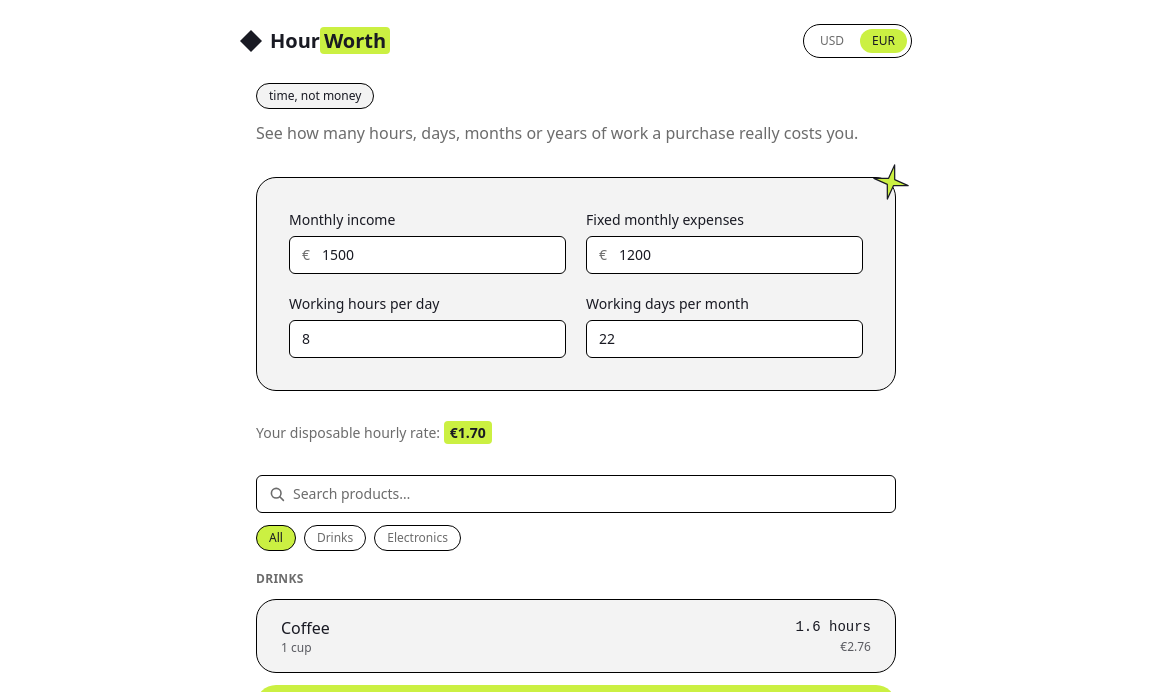
Test: App › shows an empty-state message when no product matches the filters
Expected: the text "Coffee" is shown, [281, 616, 330, 640]
Type "nonexistent-product" into the search field with placeholder "Search products…" at (588, 494), box [293, 484, 883, 504]
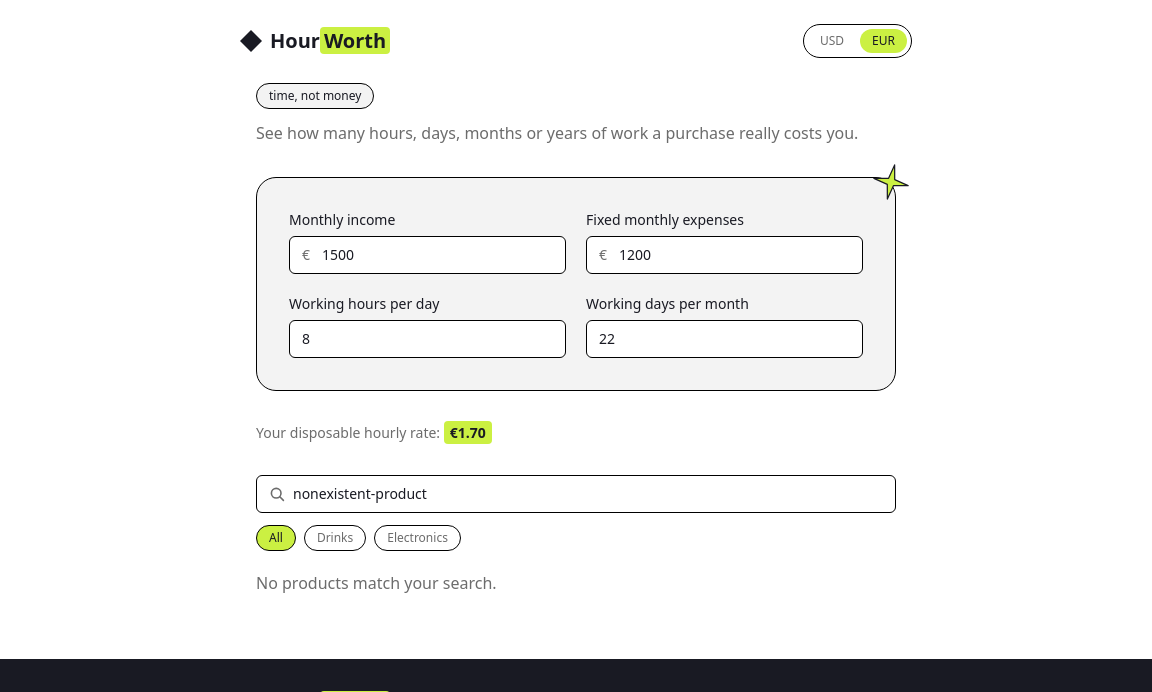
Expected: the text "No products match your search." is shown, [256, 572, 497, 594]
